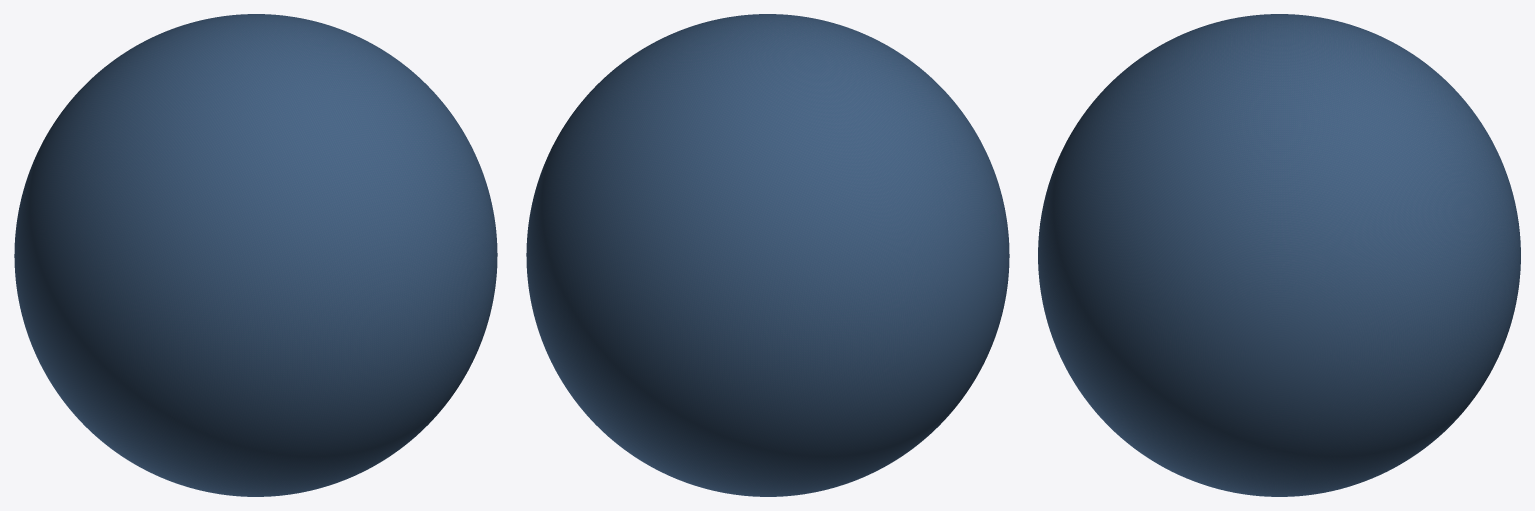
Rendered from lyoko core.obj.
The picture shows the model from 3 angles, left to right: view 1: azimuth 30°, elevation 25°; view 2: azimuth 150°, elevation 25°; view 3: azimuth 270°, elevation 25°; orthographic projection.
Parts seen in each view (by area): view 1: Solid1; view 2: Solid1; view 3: Solid1.
Part boxes in pixels (<box>): Solid1: <box>14,14,497,496</box>; Solid1: <box>526,14,1009,496</box>; Solid1: <box>1038,14,1520,496</box>.
Bounding box in the file's own units: 78.74 × 78.73 × 78.72.
